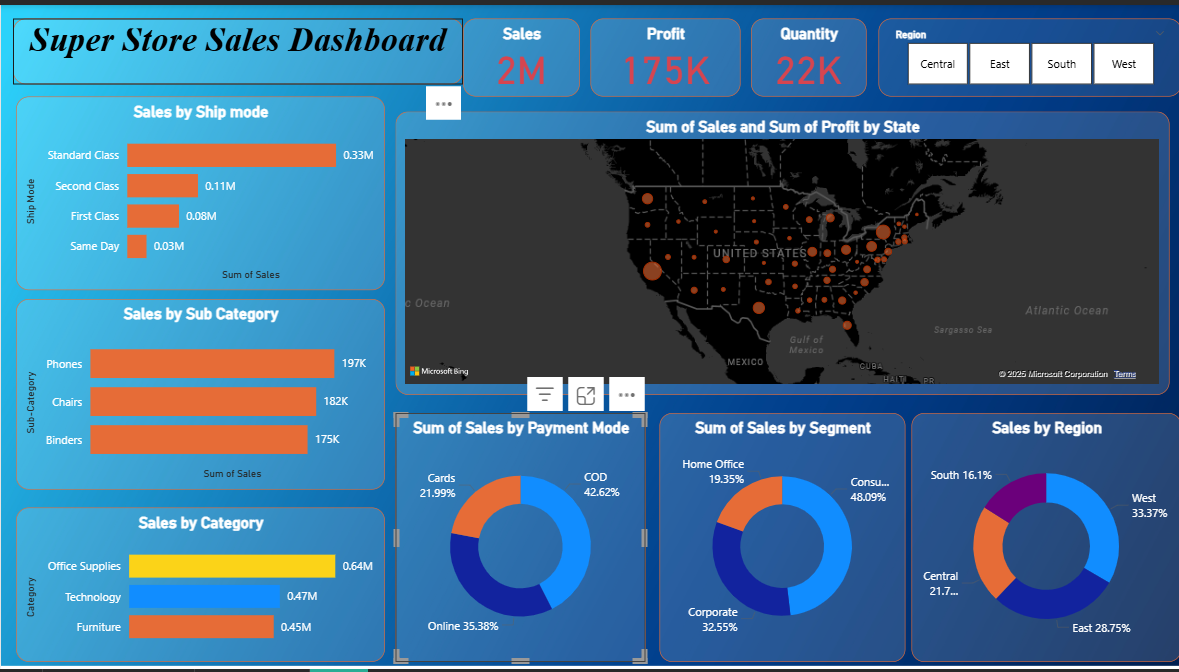

The page's visual inventory and layout, read from the dashboard file:
{"tool":"powerbi","page":{"name":"Super Store Sales Dashboard","canvas":[1280,720],"ordinal":0},"visuals":[{"type":"clusteredBarChart","title":"Sales by Category","fields":{"Category":["SuperStore_Sales_Dataset (2).Category"],"Y":["Sum(SuperStore_Sales_Dataset (2).Sales)"]},"box":[16.3,544.9,400.1,167.5],"z":0},{"type":"clusteredBarChart","title":"Sales by Sub Category","fields":{"Category":["SuperStore_Sales_Dataset (2).Sub-Category"],"Y":["Sum(SuperStore_Sales_Dataset (2).Sales)"]},"box":[16.3,318.8,400.1,206.6],"z":1000},{"type":"clusteredBarChart","title":"Sales by Ship mode","fields":{"Category":["SuperStore_Sales_Dataset (2).Ship Mode"],"Y":["Sum(SuperStore_Sales_Dataset (2).Sales)"]},"box":[16.3,99.2,400.1,209.8],"z":2000},{"type":"map","title":"Profit and sales by State","fields":{"Category":["SuperStore_Sales_Dataset (2).State"],"Size":["Sum(SuperStore_Sales_Dataset (2).Sales)"]},"box":[427.8,115.5,839.3,307.4],"z":3000},{"type":"donutChart","title":"Sales by Segment","fields":{"Category":["SuperStore_Sales_Dataset (2).Segment"],"Y":["Sum(SuperStore_Sales_Dataset (2).Sales)"]},"box":[714.1,442.4,266.8,270],"z":4000},{"type":"donutChart","title":"Sales by Payment Mode","fields":{"Category":["SuperStore_Sales_Dataset (2).Payment Mode"],"Y":["Sum(SuperStore_Sales_Dataset (2).Sales)"]},"box":[427.8,442.4,271.6,270],"z":5000},{"type":"slicer","fields":{"Values":["SuperStore_Sales_Dataset (2).Region"]},"box":[951.5,14.6,328.6,84.6],"z":6000},{"type":"textbox","box":[13,14.6,488,71.6],"z":7000},{"type":"card","title":"Sales","fields":{"Values":["Sum(SuperStore_Sales_Dataset (2).Sales)"]},"box":[512.4,14.6,126.9,84.6],"z":8000},{"type":"card","title":"Quantity","fields":{"Values":["Sum(SuperStore_Sales_Dataset (2).Quantity)"]},"box":[813.3,14.6,125.2,84.6],"z":9000},{"type":"card","title":"Profit","fields":{"Values":["Sum(SuperStore_Sales_Dataset (2).Profit)"]},"box":[650.6,14.6,151.3,84.6],"z":10000},{"type":"donutChart","title":" Sales by Region","fields":{"Y":["Sum(SuperStore_Sales_Dataset (2).Sales)"],"Category":["SuperStore_Sales_Dataset (2).Region"]},"box":[987.3,442.4,292.8,270],"z":12000}]}

Visuals, with their boxes in screenshot pixels (x1, y1, x2, y2), scaled from the page's 1280x720 canvas onto the 1179x672 screenshot:
"Sales by Category" clusteredBarChart: bbox(15, 509, 384, 665)
"Sales by Sub Category" clusteredBarChart: bbox(15, 298, 384, 490)
"Sales by Ship mode" clusteredBarChart: bbox(15, 93, 384, 288)
"Profit and sales by State" map: bbox(394, 108, 1167, 395)
"Sales by Segment" donutChart: bbox(658, 413, 904, 665)
"Sales by Payment Mode" donutChart: bbox(394, 413, 644, 665)
slicer - SuperStore_Sales_Dataset (2).Region: bbox(876, 14, 1178, 93)
textbox: bbox(12, 14, 461, 80)
"Sales" card: bbox(472, 14, 589, 93)
"Quantity" card: bbox(749, 14, 864, 93)
"Profit" card: bbox(599, 14, 739, 93)
" Sales by Region" donutChart: bbox(909, 413, 1178, 665)
